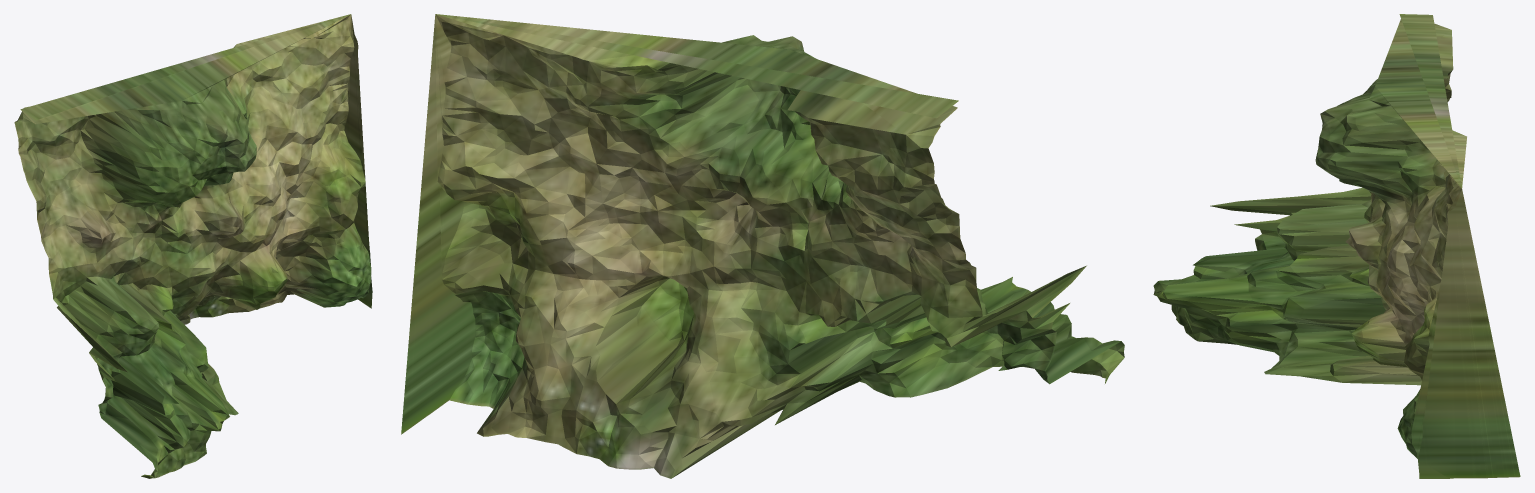
Rendered from map_270_100.obj.
The picture shows the model from 3 angles, left to right: view 1: azimuth 30°, elevation 25°; view 2: azimuth 150°, elevation 25°; view 3: azimuth 270°, elevation 25°; orthographic projection. The views are drawn at different scales.
Parts seen in each view (by area): view 1: grp1; view 2: grp1; view 3: grp1.
Boxes of the visible parts, x1,y1,x2,y2 form: grp1: (14,14,372,478); grp1: (401,14,1124,478); grp1: (1153,14,1520,478).
Bounding box in the file's own units: 8 × 6.2 × 7.11.
1 material, 1 textured.
